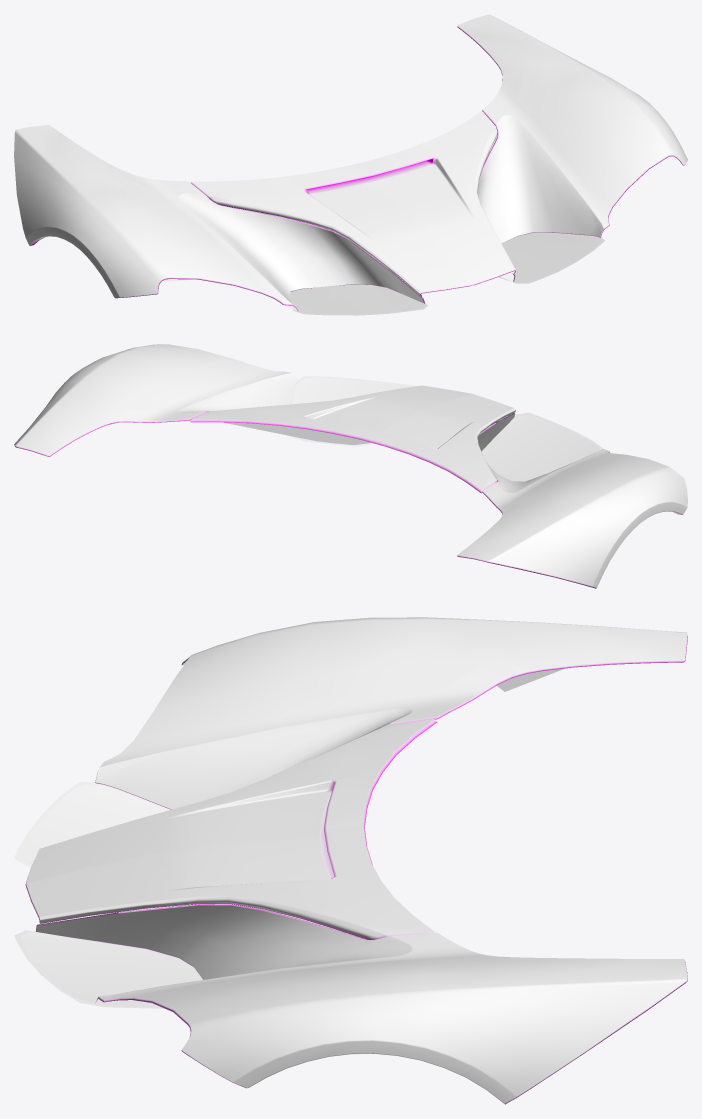
Rendered from Car_Ford_GT_2017_Hood_SetD.fbx.
The picture shows the model from 3 angles, top to bottom: view 1: azimuth 30°, elevation 25°; view 2: azimuth 150°, elevation 25°; view 3: azimuth 270°, elevation 25°; orthographic projection. The views are drawn at different scales.
Visible parts, largest first — view 1: Hood 6; view 2: Hood 6; view 3: Hood 6.
Part boxes in pixels (box(x1,y1,x2,y2)): Hood 6: box(14, 14, 687, 315); Hood 6: box(14, 344, 687, 588); Hood 6: box(14, 617, 687, 1104).
Size of the model in its own units: 1.96 by 0.2586 by 1.33.
